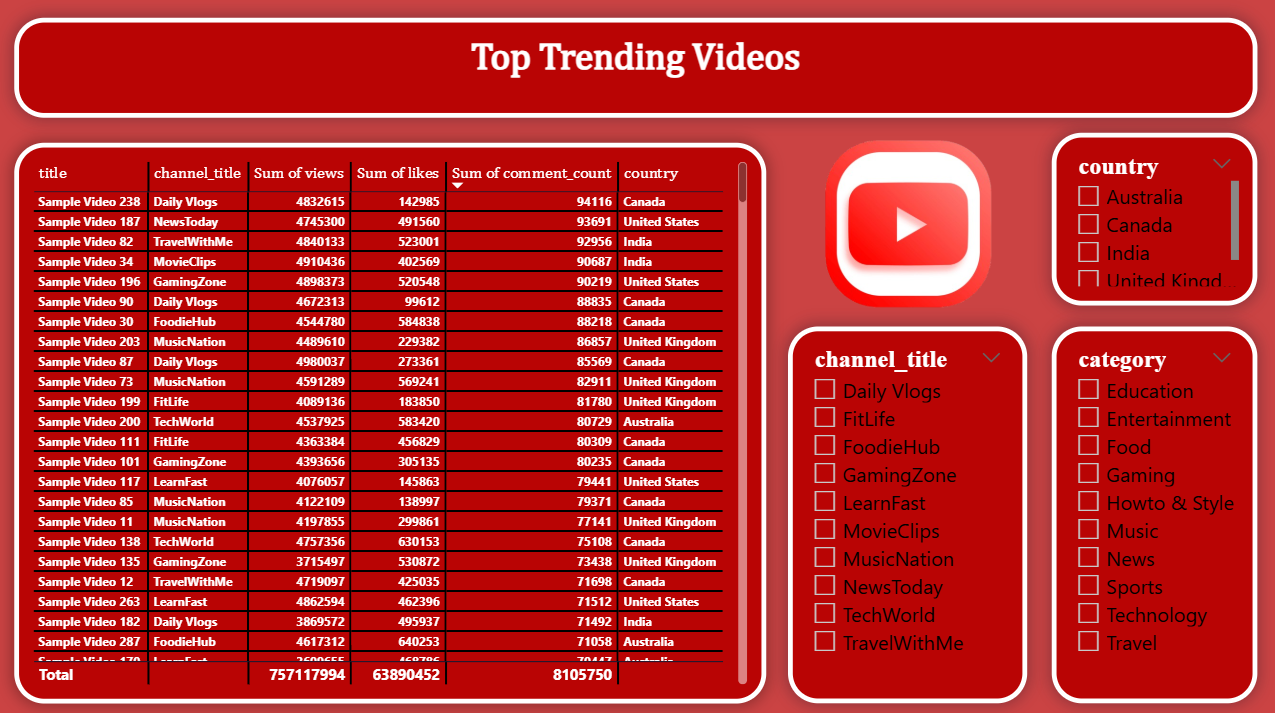

This screenshot's page, from the dashboard's own definition file:
{"tool":"powerbi","page":{"name":"Page 7","canvas":[1280,720],"ordinal":6},"visuals":[{"type":"tableEx","fields":{"Values":["youtube_trending_clean_powerbi.title","youtube_trending_clean_powerbi.channel_title","Sum(youtube_trending_clean_powerbi.views)","Sum(youtube_trending_clean_powerbi.likes)","Sum(youtube_trending_clean_powerbi.comment_count)","youtube_trending_clean_powerbi.country"]},"box":[15.9,143.5,752.2,560.9],"z":0},{"type":"slicer","fields":{"Values":["youtube_trending_clean_powerbi.country"]},"box":[1053.6,133.3,205.8,172.5],"z":1000},{"type":"slicer","fields":{"Values":["youtube_trending_clean_powerbi.category"]},"box":[1053.6,327.5,205.8,376.8],"z":2000},{"type":"slicer","fields":{"Values":["youtube_trending_clean_powerbi.channel_title"]},"box":[789.9,327.5,239.1,376.8],"z":3000},{"type":"textbox","box":[15.9,18.8,1243.5,100],"z":4000},{"type":"image","box":[768.1,133.3,285.5,182.6],"z":5000}]}

Visuals, with their boxes in screenshot pixels (x1, y1, x2, y2), scaled from the page's 1280x720 canvas onto the 1275x713 screenshot:
tableEx - youtube_trending_clean_powerbi.title x youtube_trending_clean_powerbi.channel_title: [16,142,765,698]
slicer - youtube_trending_clean_powerbi.country: [1049,132,1254,303]
slicer - youtube_trending_clean_powerbi.category: [1049,324,1254,697]
slicer - youtube_trending_clean_powerbi.channel_title: [787,324,1025,697]
textbox: [16,19,1254,118]
image: [765,132,1049,313]
